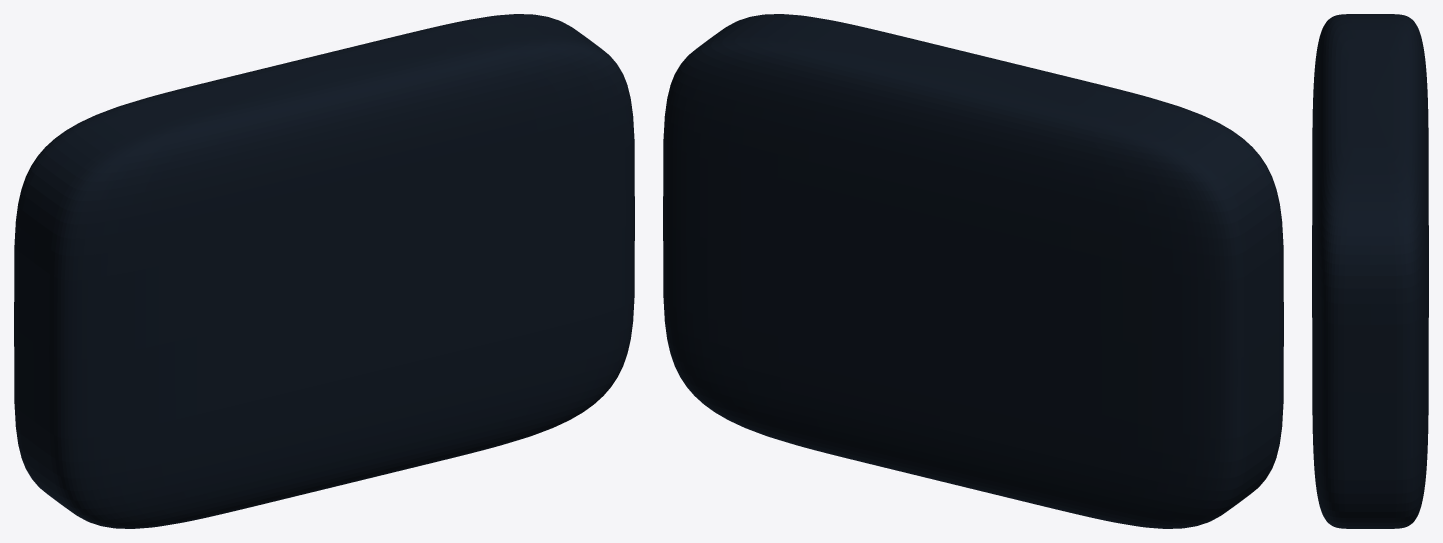
The model's file is face_glass.glb.
The picture shows the model from 3 angles, left to right: view 1: azimuth 30°, elevation 25°; view 2: azimuth 150°, elevation 25°; view 3: azimuth 270°, elevation 25°; orthographic projection. The views are drawn at different scales.
Visible parts, largest first — view 1: KUMA_Reference_VisorGlass; view 2: KUMA_Reference_VisorGlass; view 3: KUMA_Reference_VisorGlass.
Boxes of the visible parts, x1,y1,x2,y2 form: KUMA_Reference_VisorGlass: [14, 14, 634, 528]; KUMA_Reference_VisorGlass: [663, 14, 1283, 528]; KUMA_Reference_VisorGlass: [1312, 14, 1428, 528].
Size of the model in its own units: 123 by 81 by 25.
